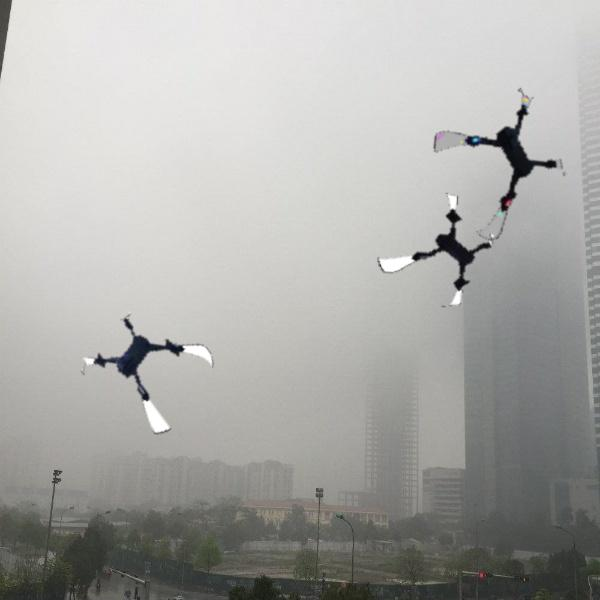drone: (435, 95, 571, 231), (88, 303, 219, 434), (374, 187, 503, 316)
